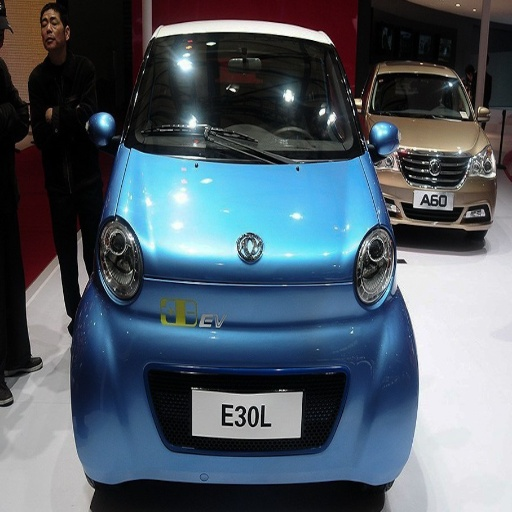front_bumper: (269, 277, 420, 489), (83, 319, 212, 480), (394, 150, 498, 243)
hood: (128, 150, 355, 233), (427, 119, 482, 152)
tailgate: (199, 404, 292, 460)
trunk: (150, 219, 367, 437)
